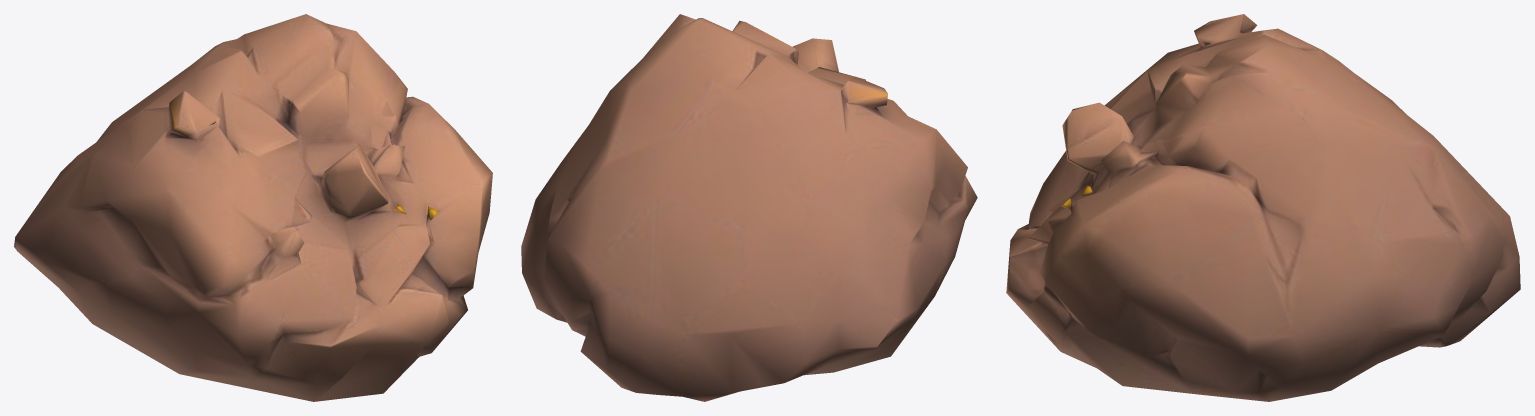
File: gold.glb
The picture shows the model from 3 angles, left to right: view 1: azimuth 30°, elevation 25°; view 2: azimuth 150°, elevation 25°; view 3: azimuth 270°, elevation 25°; orthographic projection. The views are drawn at different scales.
Size of the model in its own units: 1.73 by 1.35 by 1.89.
1 material, 1 textured.
